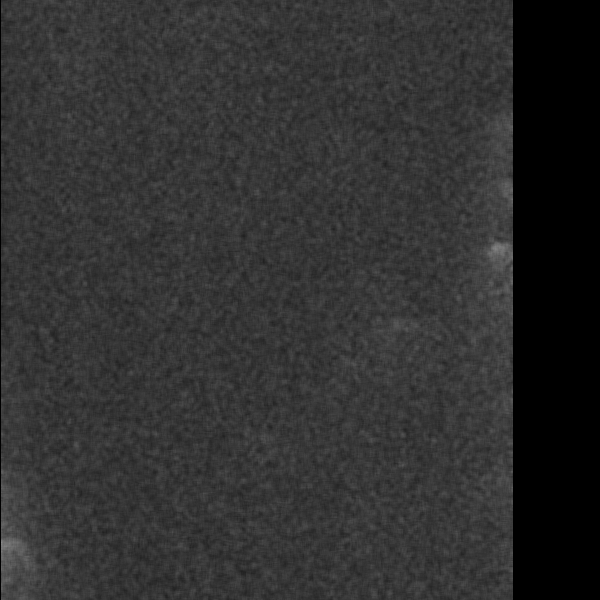spark: (418, 546, 474, 599), (176, 325, 216, 338)
